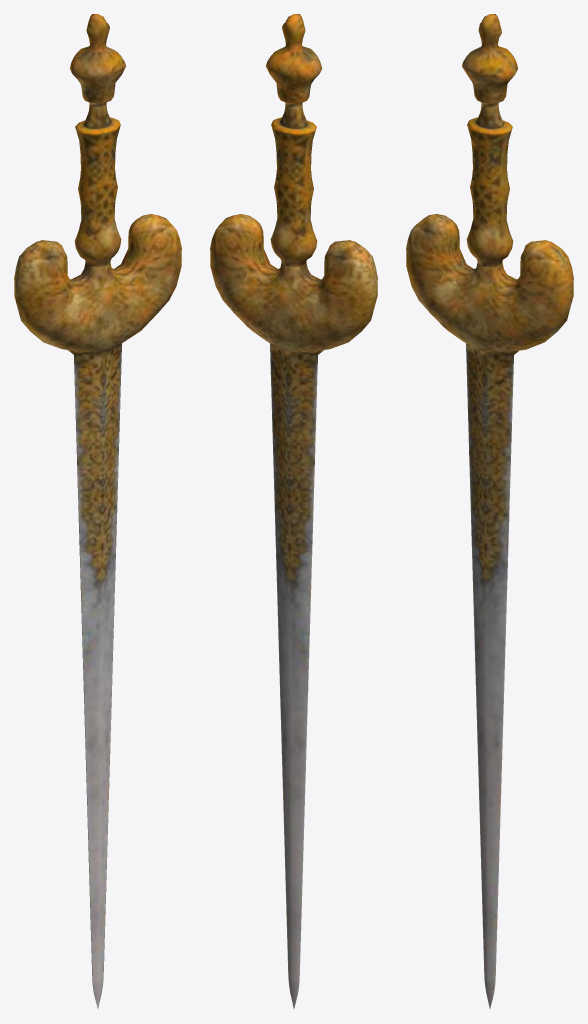
Rendered from weapon-wp_a_0215.glb.
3 views of the same model, side by side, from view 1: azimuth 30°, elevation 25°; view 2: azimuth 150°, elevation 25°; view 3: azimuth 330°, elevation 25° (orthographic).
Visible parts, largest first — view 1: wp_a_0215_mesh; view 2: wp_a_0215_mesh; view 3: wp_a_0215_mesh.
Part boxes in pixels (<box>): wp_a_0215_mesh: <box>14,14,181,1008</box>; wp_a_0215_mesh: <box>210,14,377,1008</box>; wp_a_0215_mesh: <box>406,14,573,1008</box>.
Size of the model in its own units: 0.1804 by 1.05 by 0.0487.
Materials: 1 (1 with a texture image).
